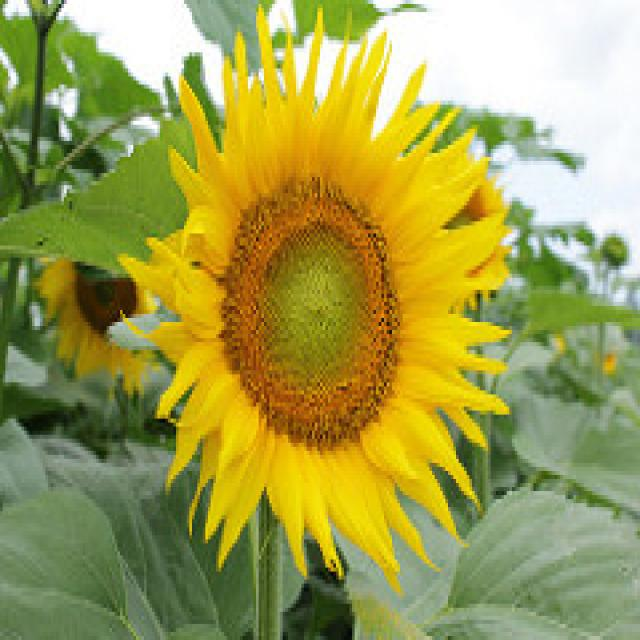sunflower: (128, 10, 509, 594)
